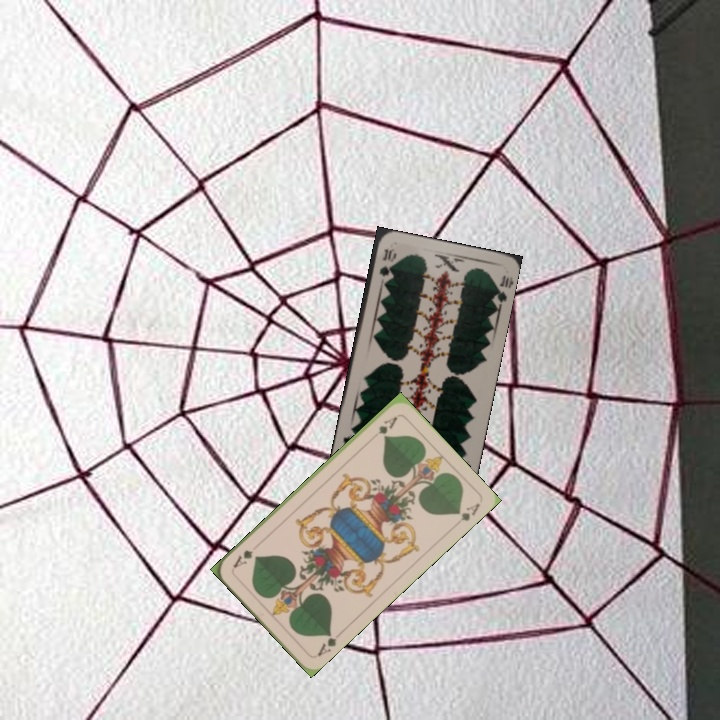G10: (375, 245, 396, 280)
GA: (313, 628, 339, 659), (374, 412, 400, 437)
